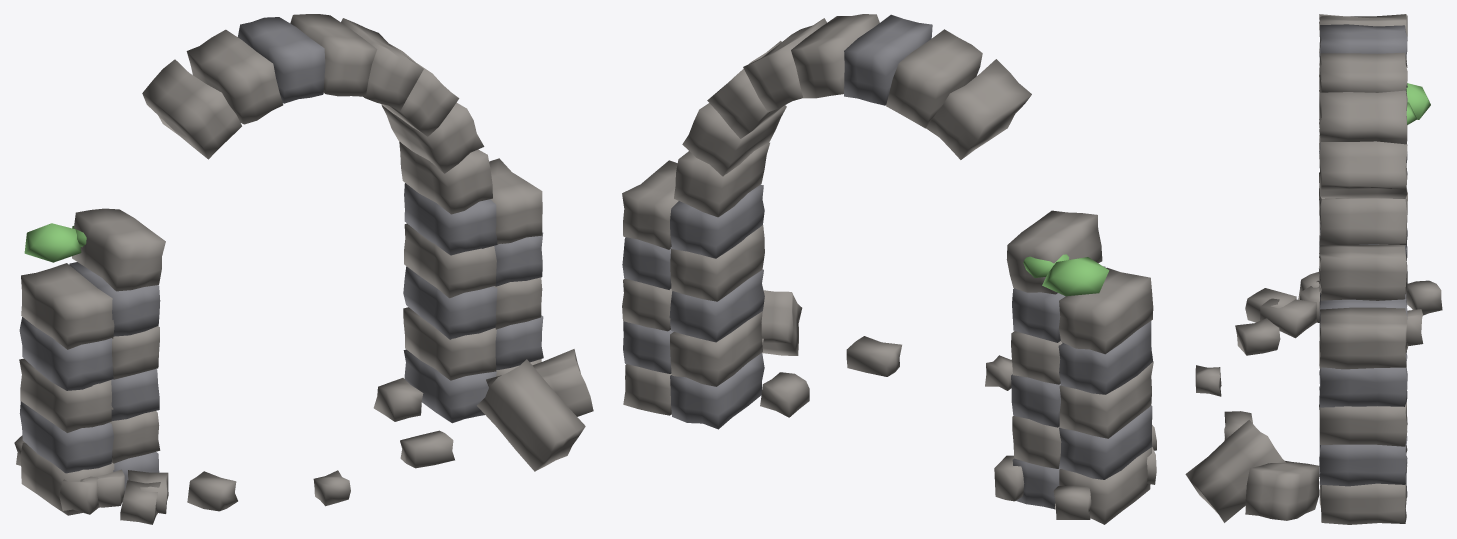
File: poi_ruin_arch.glb
3 views of the same model, side by side, from view 1: azimuth 30°, elevation 25°; view 2: azimuth 150°, elevation 25°; view 3: azimuth 270°, elevation 25° (orthographic). The views are drawn at different scales.
Visible parts, largest first — view 1: poi_ruin_arch; view 2: poi_ruin_arch; view 3: poi_ruin_arch.
Part boxes in pixels (x1=…): poi_ruin_arch: x1=14, y1=14, x2=593, y2=524; poi_ruin_arch: x1=622, y1=14, x2=1156, y2=524; poi_ruin_arch: x1=1185, y1=14, x2=1442, y2=524.
Bounding box in the file's own units: 6.12 × 4.81 × 2.86.
